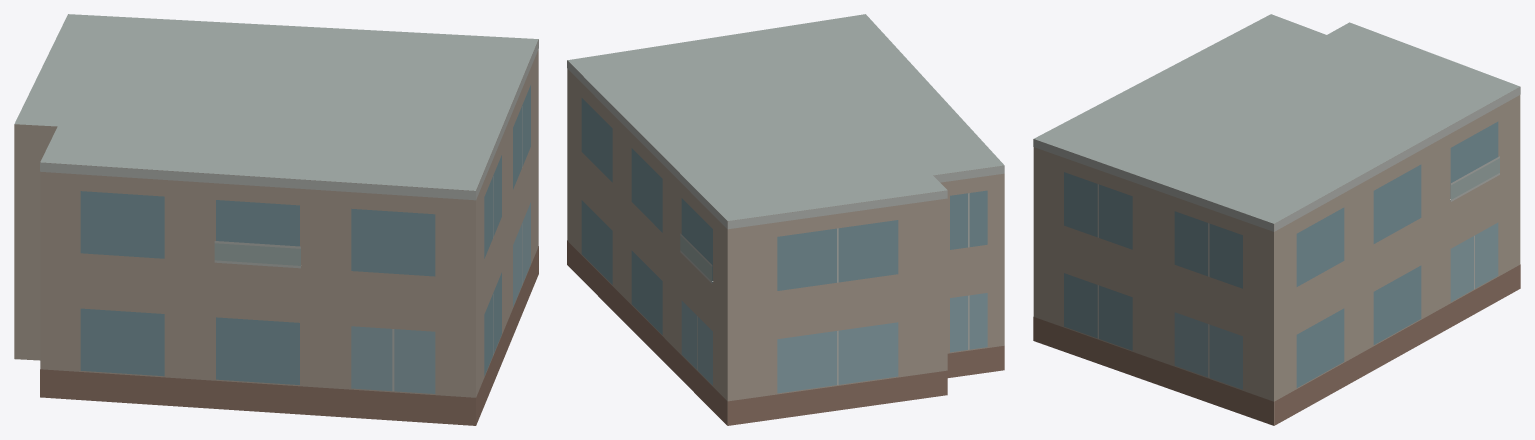
File: survey-upis-32810508.glb
3 views of the same model, side by side, from view 1: azimuth 30°, elevation 25°; view 2: azimuth 150°, elevation 25°; view 3: azimuth 270°, elevation 25° (orthographic). The views are drawn at different scales.
Parts seen in each view (by area): view 1: survey-upis-32810508.tmp; view 2: survey-upis-32810508.tmp; view 3: survey-upis-32810508.tmp.
Boxes of the visible parts, bbox=[...] form: survey-upis-32810508.tmp: bbox=[14, 14, 538, 425]; survey-upis-32810508.tmp: bbox=[567, 14, 1004, 425]; survey-upis-32810508.tmp: bbox=[1033, 14, 1520, 425].
Bounding box in the file's own units: 13.6 × 6.1 × 13.34.
